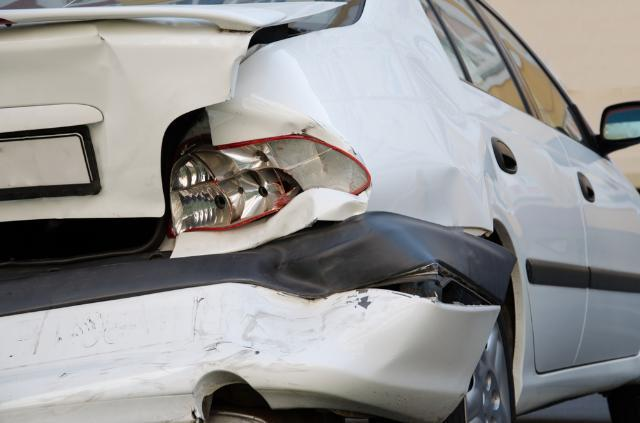dent: (241, 219, 439, 381), (234, 188, 366, 245), (375, 169, 490, 227)
lamp broken: (169, 137, 373, 235)
scratch: (0, 297, 238, 418)
